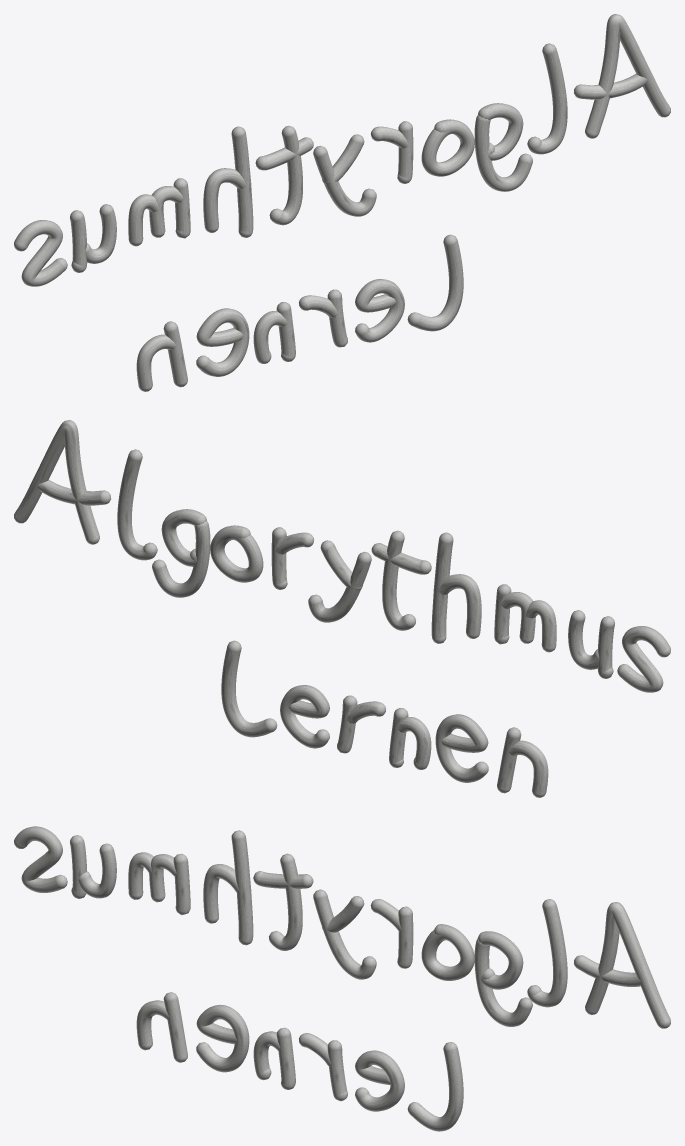
The model's file is f1099f39-72b6-4e57-9adf-de1bb26fbd4d.obj.
3 views of the same model, one above another, from view 1: azimuth 30°, elevation 25°; view 2: azimuth 150°, elevation 25°; view 3: azimuth 330°, elevation 25° (orthographic).
Parts seen in each view (by area): view 1: s.0032, s.0109, s.0083, s.0092, s.0048, s.0036, s.0090, s.0045, s.0062, s.0060, s.0058, s.0041 (+16 smaller); view 2: s.0032, s.0109, s.0083, s.0092, s.0048, s.0036, s.0090, s.0045, s.0060, s.0062, s.0058, s.0041 (+16 smaller); view 3: s.0032, s.0109, s.0092, s.0083, s.0036, s.0048, s.0090, s.0062, s.0045, s.0058, s.0060, s.0041 (+17 smaller).
Part boxes in pixels (bbox=[...]): s.0032: bbox=[585, 14, 670, 138]; s.0109: bbox=[196, 308, 249, 376]; s.0083: bbox=[14, 220, 67, 286]; s.0092: bbox=[355, 279, 404, 342]; s.0048: bbox=[421, 119, 474, 176]; s.0036: bbox=[527, 43, 567, 154]; s.0090: bbox=[407, 234, 463, 331]; s.0045: bbox=[474, 115, 532, 191]; s.0062: bbox=[231, 126, 253, 237]; s.0060: bbox=[269, 125, 302, 225]; s.0058: bbox=[313, 145, 376, 216]; s.0041: bbox=[478, 103, 523, 160]; s.0032: bbox=[14, 420, 99, 544]; s.0109: bbox=[435, 714, 488, 782]; s.0083: bbox=[617, 626, 670, 692]; s.0092: bbox=[280, 685, 329, 748]; s.0048: bbox=[210, 525, 263, 582]; s.0036: bbox=[117, 449, 157, 560]; s.0090: bbox=[221, 640, 277, 737]; s.0045: bbox=[152, 521, 210, 597]; s.0060: bbox=[382, 530, 415, 630]; s.0062: bbox=[431, 532, 453, 643]; s.0058: bbox=[308, 551, 371, 622]; s.0041: bbox=[161, 509, 206, 566]; s.0032: bbox=[585, 902, 670, 1028]; s.0109: bbox=[196, 1004, 249, 1072]; s.0092: bbox=[355, 1050, 404, 1111]; s.0083: bbox=[14, 826, 67, 892]; s.0036: bbox=[527, 899, 567, 1007]; s.0048: bbox=[421, 924, 474, 980]; s.0090: bbox=[407, 1042, 463, 1131]; s.0062: bbox=[231, 830, 253, 945]; s.0045: bbox=[474, 938, 532, 1026]; s.0058: bbox=[313, 889, 376, 979]; s.0060: bbox=[269, 853, 302, 950]; s.0041: bbox=[478, 931, 523, 989].
Size of the model in its own units: 1.6 by 0.6355 by 0.0359.
1 material, 1 textured.
